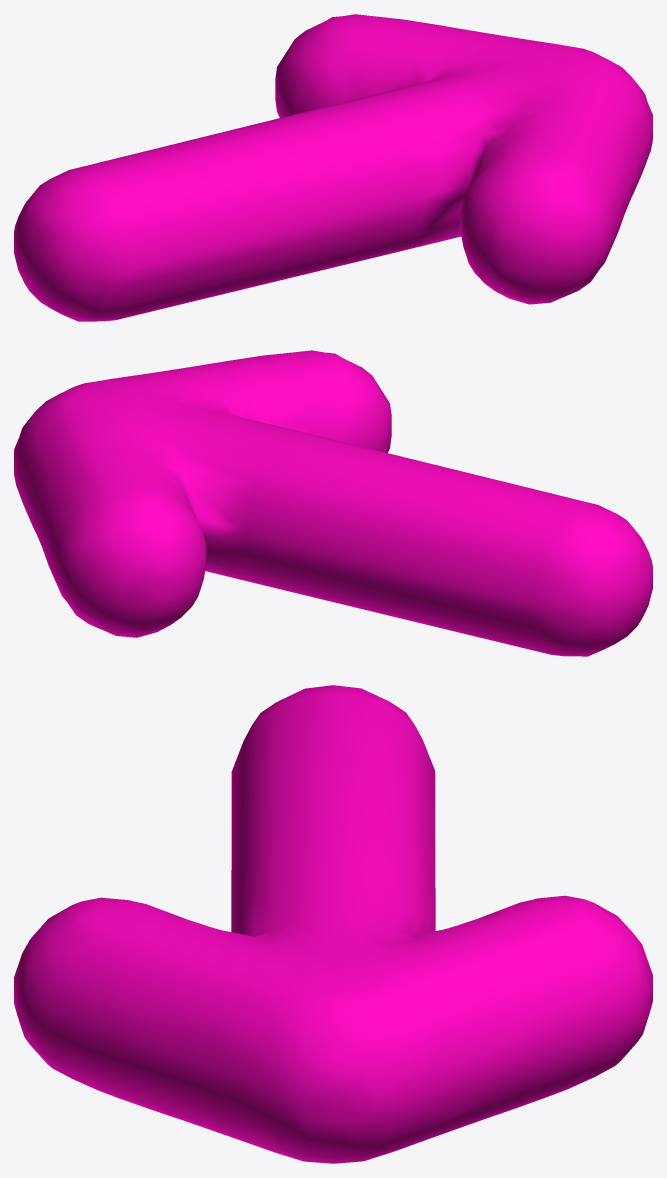
File: arrow.glb
3 views of the same model, one above another, from view 1: azimuth 30°, elevation 25°; view 2: azimuth 150°, elevation 25°; view 3: azimuth 270°, elevation 25° (orthographic). The views are drawn at different scales.
Visible parts, largest first — view 1: arrow; view 2: arrow; view 3: arrow.
Part boxes in pixels (x1,y1,x2,y2): arrow: (14,14,652,321); arrow: (14,350,652,656); arrow: (14,685,652,1163).
Size of the model in its own units: 3.05 by 0.6771 by 2.24.
